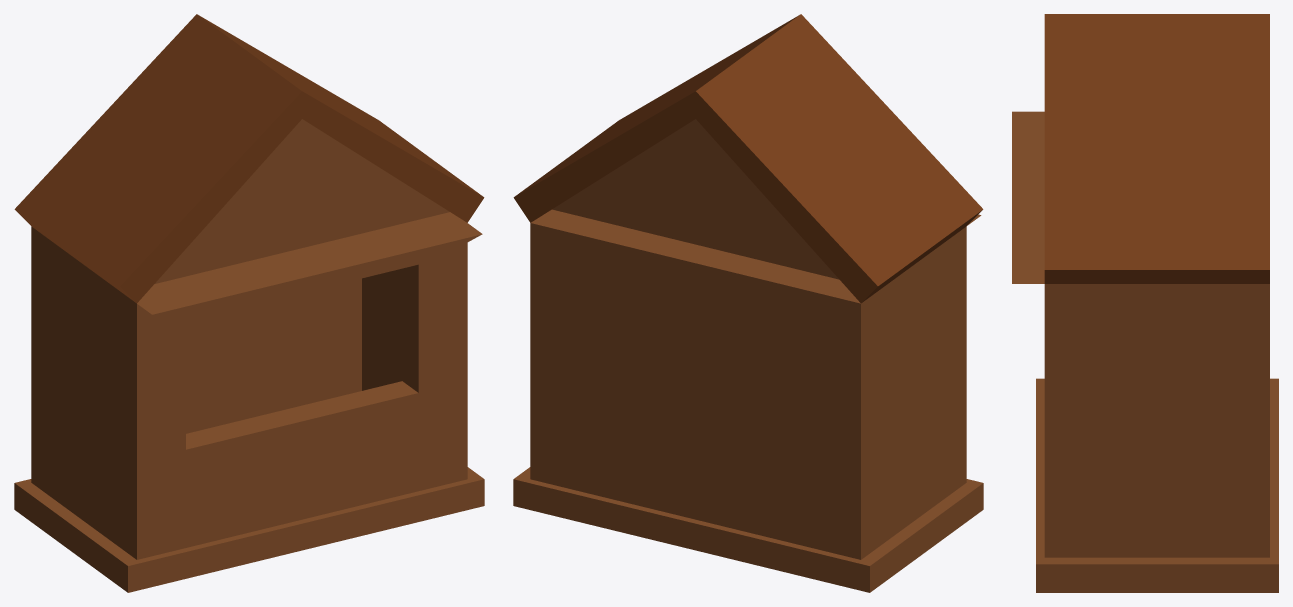
The model's file is Caseta_4.fbx.
The picture shows the model from 3 angles, left to right: view 1: azimuth 30°, elevation 25°; view 2: azimuth 150°, elevation 25°; view 3: azimuth 270°, elevation 25°; orthographic projection. The views are drawn at different scales.
Parts seen in each view (by area): view 1: Cylinder.003; view 2: Cylinder.003; view 3: Cylinder.003.
Part boxes in pixels (x1,y1,x2,y2): Cylinder.003: (14,14,484,592); Cylinder.003: (513,14,983,592); Cylinder.003: (1012,14,1278,592).
Bounding box in the file's own units: 370 × 442 × 220.
